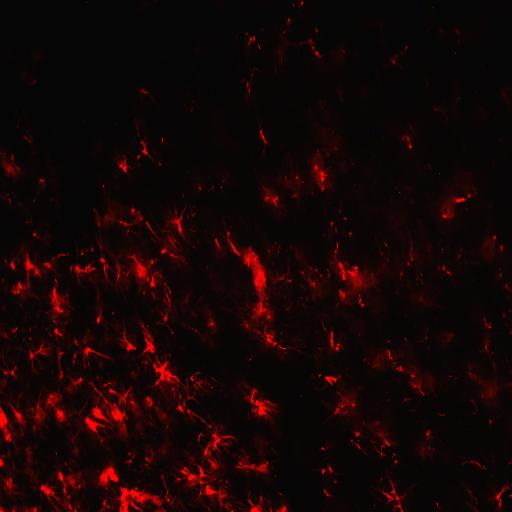microglia: (391, 255, 446, 315), (144, 221, 193, 266), (236, 383, 281, 427), (245, 319, 293, 358), (346, 424, 394, 463), (334, 257, 373, 302), (195, 415, 235, 457), (92, 387, 131, 430), (4, 45, 40, 90), (72, 331, 112, 370), (299, 258, 332, 305), (136, 440, 176, 475), (175, 463, 213, 498), (182, 371, 222, 404), (156, 283, 179, 336), (117, 485, 162, 512), (282, 154, 306, 202), (148, 356, 180, 391), (75, 408, 106, 444), (229, 232, 258, 270), (91, 190, 117, 232), (271, 16, 293, 65), (407, 366, 441, 396), (235, 448, 271, 476), (128, 255, 154, 292), (482, 231, 508, 268), (25, 340, 53, 374), (49, 276, 70, 321), (310, 150, 331, 195), (117, 200, 143, 234), (27, 394, 47, 438), (56, 468, 86, 496), (250, 292, 276, 324), (112, 322, 137, 355), (86, 400, 114, 429), (382, 476, 406, 509), (103, 385, 137, 408), (166, 205, 188, 240), (370, 348, 402, 372), (459, 480, 483, 512), (476, 374, 504, 401), (36, 482, 62, 511), (42, 250, 72, 275), (135, 134, 157, 168), (204, 484, 230, 512), (0, 151, 25, 180), (110, 256, 129, 294), (11, 400, 29, 440), (0, 473, 23, 504), (21, 250, 43, 282), (96, 462, 120, 491), (269, 263, 292, 293), (251, 264, 268, 304), (0, 355, 19, 389), (184, 324, 216, 344), (324, 328, 346, 357), (0, 405, 15, 447), (71, 262, 97, 286), (6, 281, 36, 301), (440, 194, 465, 218), (138, 321, 156, 354), (262, 184, 284, 211), (432, 327, 459, 349), (38, 389, 64, 409), (243, 493, 269, 512), (385, 46, 407, 68), (257, 120, 270, 157), (420, 427, 436, 457), (63, 375, 84, 395), (99, 256, 112, 286), (142, 389, 157, 415), (3, 252, 19, 276), (138, 88, 157, 108), (115, 154, 131, 174), (335, 400, 355, 415), (318, 374, 342, 386), (55, 403, 65, 431), (246, 33, 260, 52), (326, 211, 338, 233), (272, 499, 292, 512), (480, 338, 493, 358), (432, 107, 448, 123), (496, 483, 510, 501), (58, 344, 64, 381), (52, 327, 66, 341), (462, 460, 485, 468), (402, 135, 412, 149), (338, 262, 346, 277), (483, 316, 491, 329), (348, 269, 358, 277), (208, 320, 216, 330), (23, 135, 31, 145), (314, 49, 322, 58), (57, 471, 64, 481), (454, 197, 465, 203), (339, 289, 345, 300), (325, 464, 333, 472), (246, 81, 250, 94), (324, 489, 330, 496), (215, 239, 219, 246), (96, 317, 100, 323), (321, 468, 325, 474), (354, 432, 360, 436), (426, 430, 430, 436), (161, 249, 166, 253), (314, 165, 318, 170), (320, 447, 326, 450), (442, 214, 446, 218), (492, 235, 496, 239), (132, 208, 134, 214), (161, 138, 164, 142)
